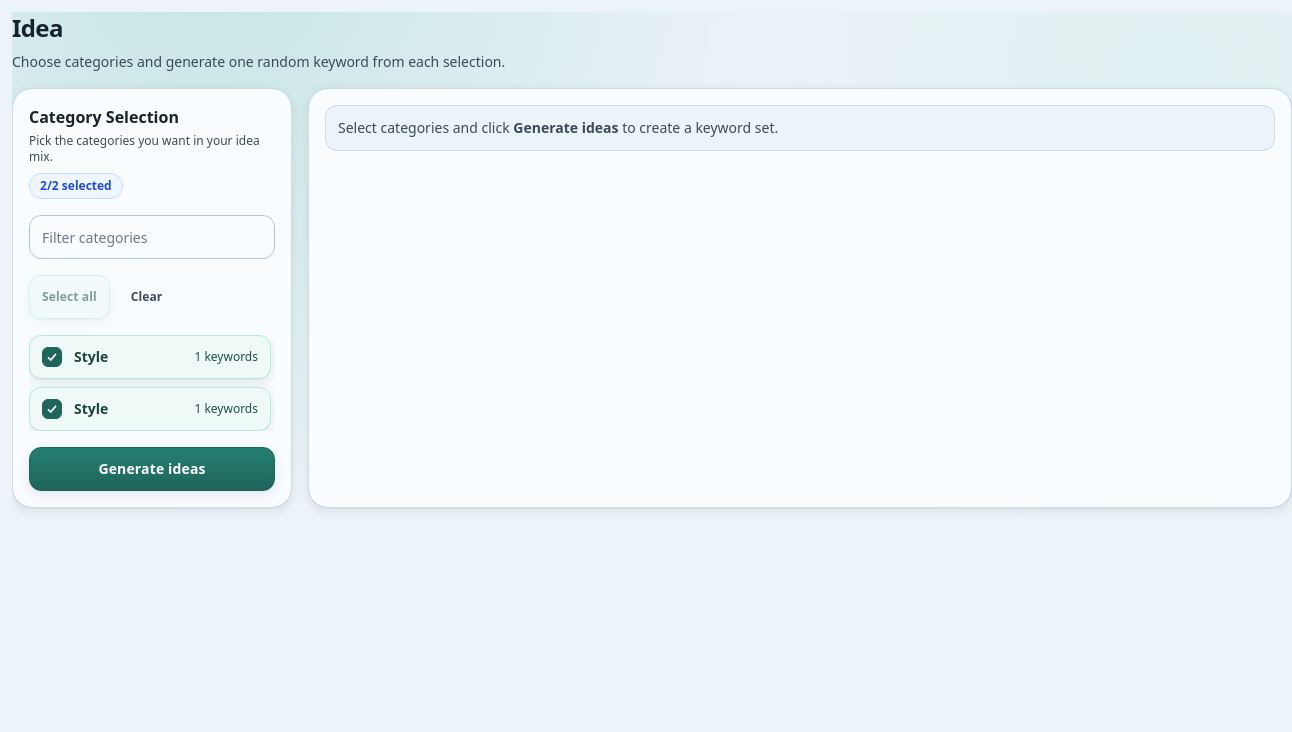
Test: IdeaPage › keeps selection distinct by id even with duplicate category names
The image size is (1292, 732).
Click the 2nd checkbox labelled "Style 1 keywords": (150, 409) [29,387,271,431]
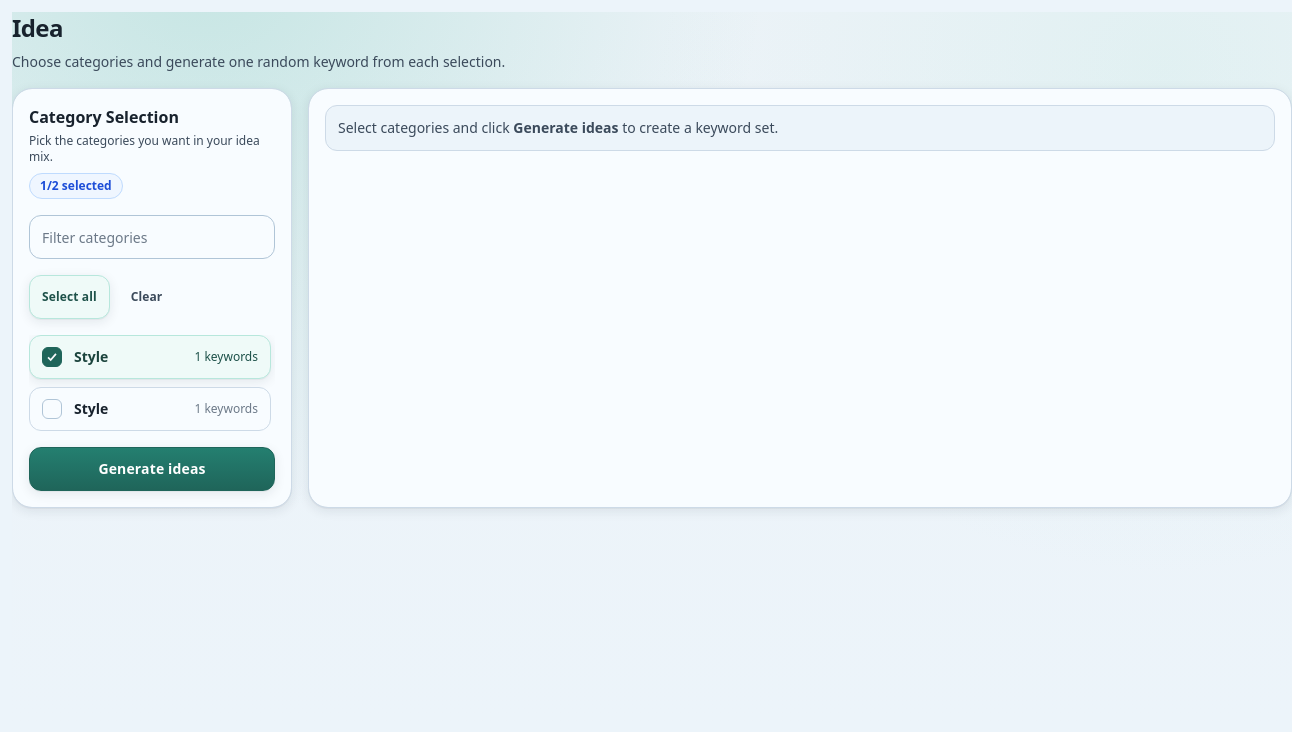
Now the text "1/2 selected" is shown, box [29,173,123,199]
Click the button "Generate ideas": (152, 469) [29,447,275,491]
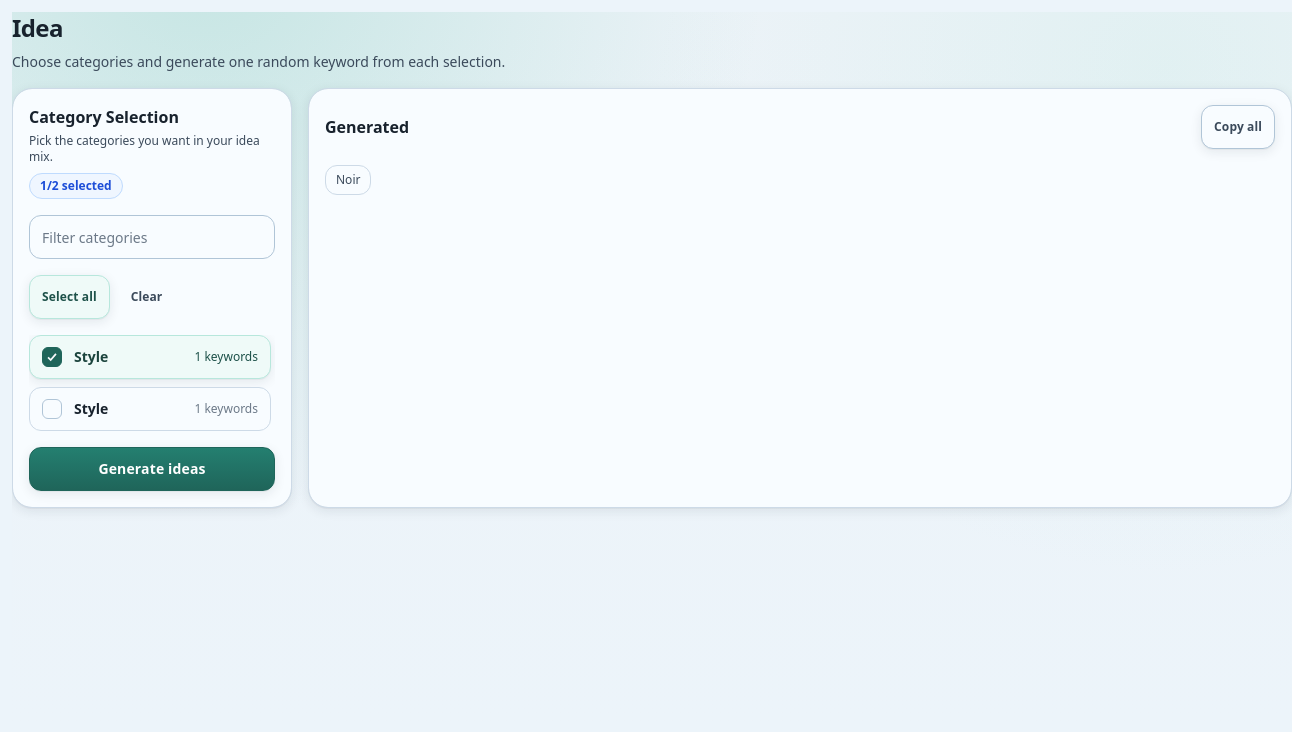
Now the button "Noir" is shown, box [325,165,371,195]
